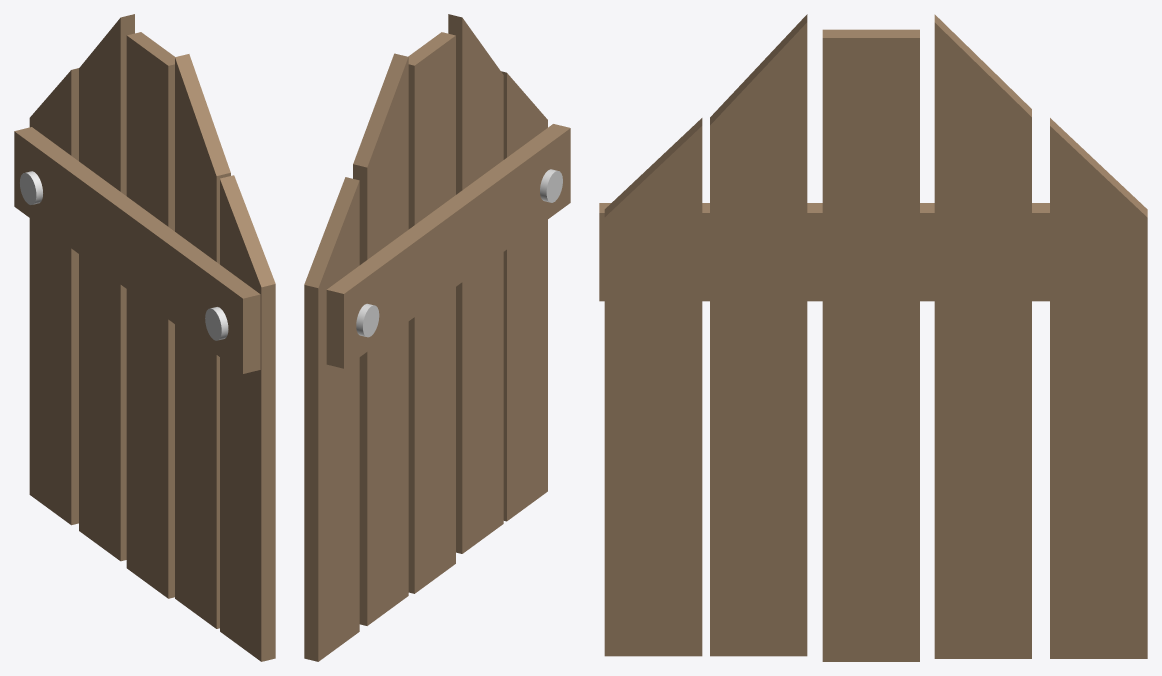
The model's file is Door.fbx.
3 views of the same model, side by side, from view 1: azimuth 30°, elevation 25°; view 2: azimuth 150°, elevation 25°; view 3: azimuth 270°, elevation 25° (orthographic). The views are drawn at different scales.
Visible parts, largest first — view 1: pCube4, pCube6, pCube7, pCube3, pCube5, pCube2, pCylinder3, pCylinder1; view 2: pCube3, pCube4, pCube2, pCube6, pCube5, pCube7, pCylinder1, pCylinder3; view 3: pCube4, pCube3, pCube5, pCube7, pCube2, pCube6.
Part boxes in pixels (x1,y1,x2,y2): pCube4: [126, 32, 174, 598]; pCube6: [14, 127, 260, 373]; pCube7: [220, 175, 275, 661]; pCube3: [79, 14, 134, 561]; pCube5: [175, 54, 230, 628]; pCube2: [29, 68, 78, 525]; pCylinder3: [205, 307, 228, 340]; pCylinder1: [20, 171, 42, 204]; pCube3: [353, 53, 408, 625]; pCube4: [408, 32, 455, 593]; pCube2: [304, 177, 359, 661]; pCube6: [326, 124, 570, 368]; pCube5: [448, 14, 503, 553]; pCube7: [501, 71, 547, 521]; pCylinder1: [356, 303, 379, 337]; pCylinder3: [540, 169, 562, 202]; pCube4: [822, 29, 919, 661]; pCube3: [934, 14, 1031, 658]; pCube5: [710, 14, 807, 656]; pCube7: [604, 118, 702, 656]; pCube2: [1050, 118, 1147, 658]; pCube6: [599, 203, 1049, 301].
Bounding box in the file's own units: 0.5785 × 7.25 × 5.62.
